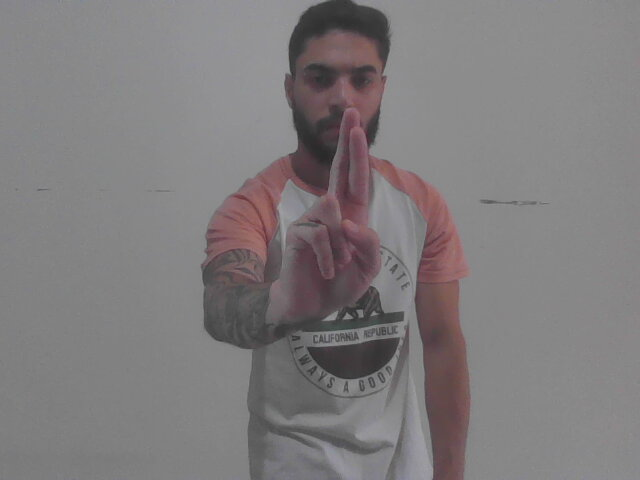r: (278, 100, 384, 323)
